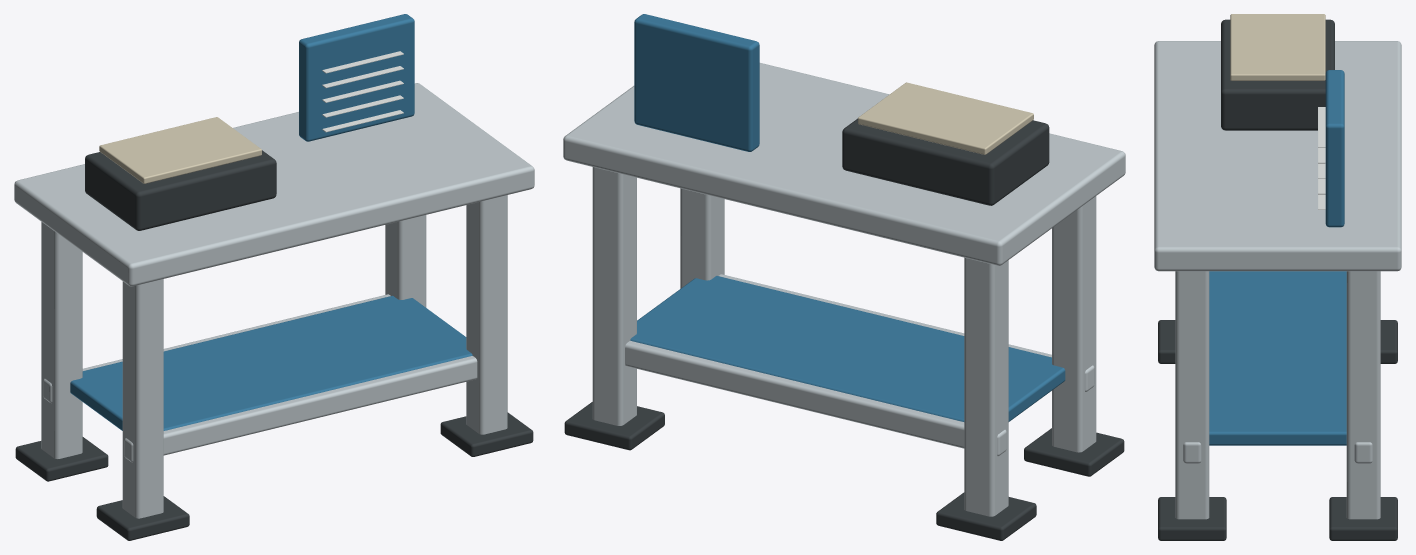
Rendered from recycling-centre-and-material-sorting-dispatch-docket--e1cfec76__31153.glb.
3 views of the same model, side by side, from view 1: azimuth 30°, elevation 25°; view 2: azimuth 150°, elevation 25°; view 3: azimuth 270°, elevation 25° (orthographic). The views are drawn at different scales.
Visible parts, largest first — view 1: dispatch-docket-station; view 2: dispatch-docket-station; view 3: dispatch-docket-station.
Boxes of the visible parts, x1,y1,x2,y2 form: dispatch-docket-station: (14,14,534,540); dispatch-docket-station: (563,14,1125,540); dispatch-docket-station: (1154,14,1401,540).
Size of the model in its own units: 1.3 by 1.15 by 0.6501.
